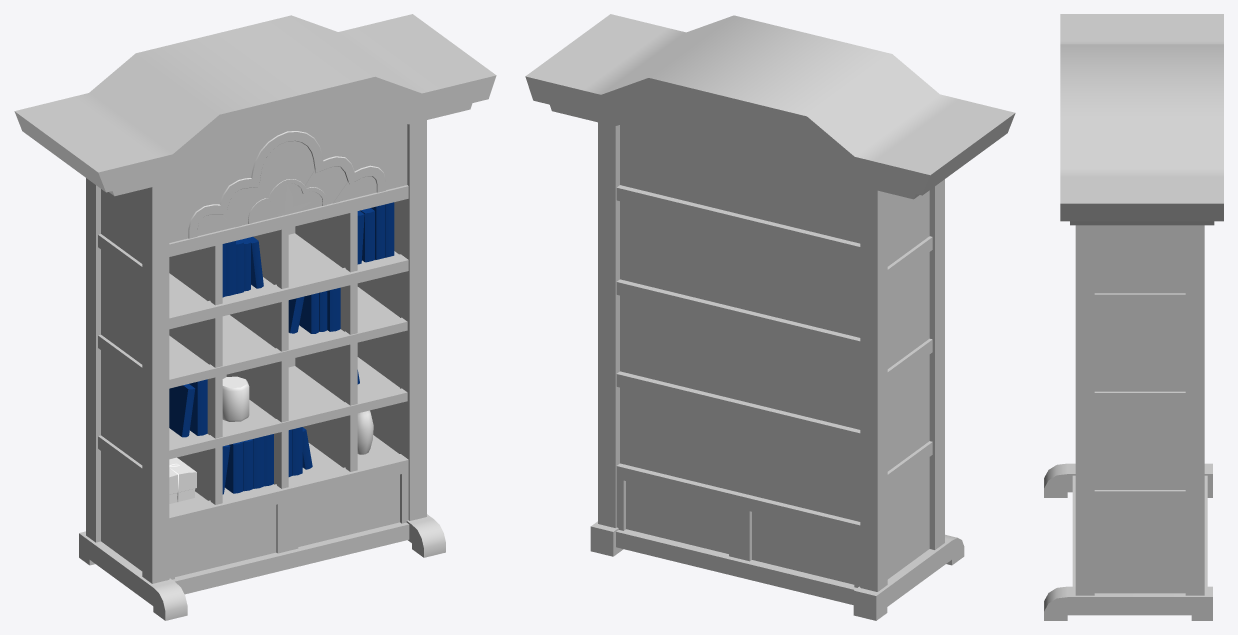
The model's file is Maple Wood Bookcase_ Trove of a Thousand Tomes.fbx.
3 renders of one model, left to right at view 1: azimuth 30°, elevation 25°; view 2: azimuth 150°, elevation 25°; view 3: azimuth 270°, elevation 25°, orthographic. The views are drawn at different scales.
Parts seen in each view (by area): view 1: Maple Wood Bookcase: Trove of a Thousand Tomes; view 2: Maple Wood Bookcase: Trove of a Thousand Tomes; view 3: Maple Wood Bookcase: Trove of a Thousand Tomes.
Part boxes in pixels (box(x1,y1,x2,y2)): Maple Wood Bookcase: Trove of a Thousand Tomes: box(14, 14, 496, 620); Maple Wood Bookcase: Trove of a Thousand Tomes: box(525, 14, 1015, 620); Maple Wood Bookcase: Trove of a Thousand Tomes: box(1044, 14, 1223, 620).
Bounding box in the file's own units: 2.12 × 2.47 × 0.8505.
